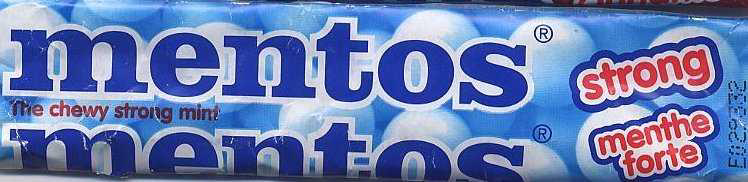grozi_43: (0, 0, 748, 182)
